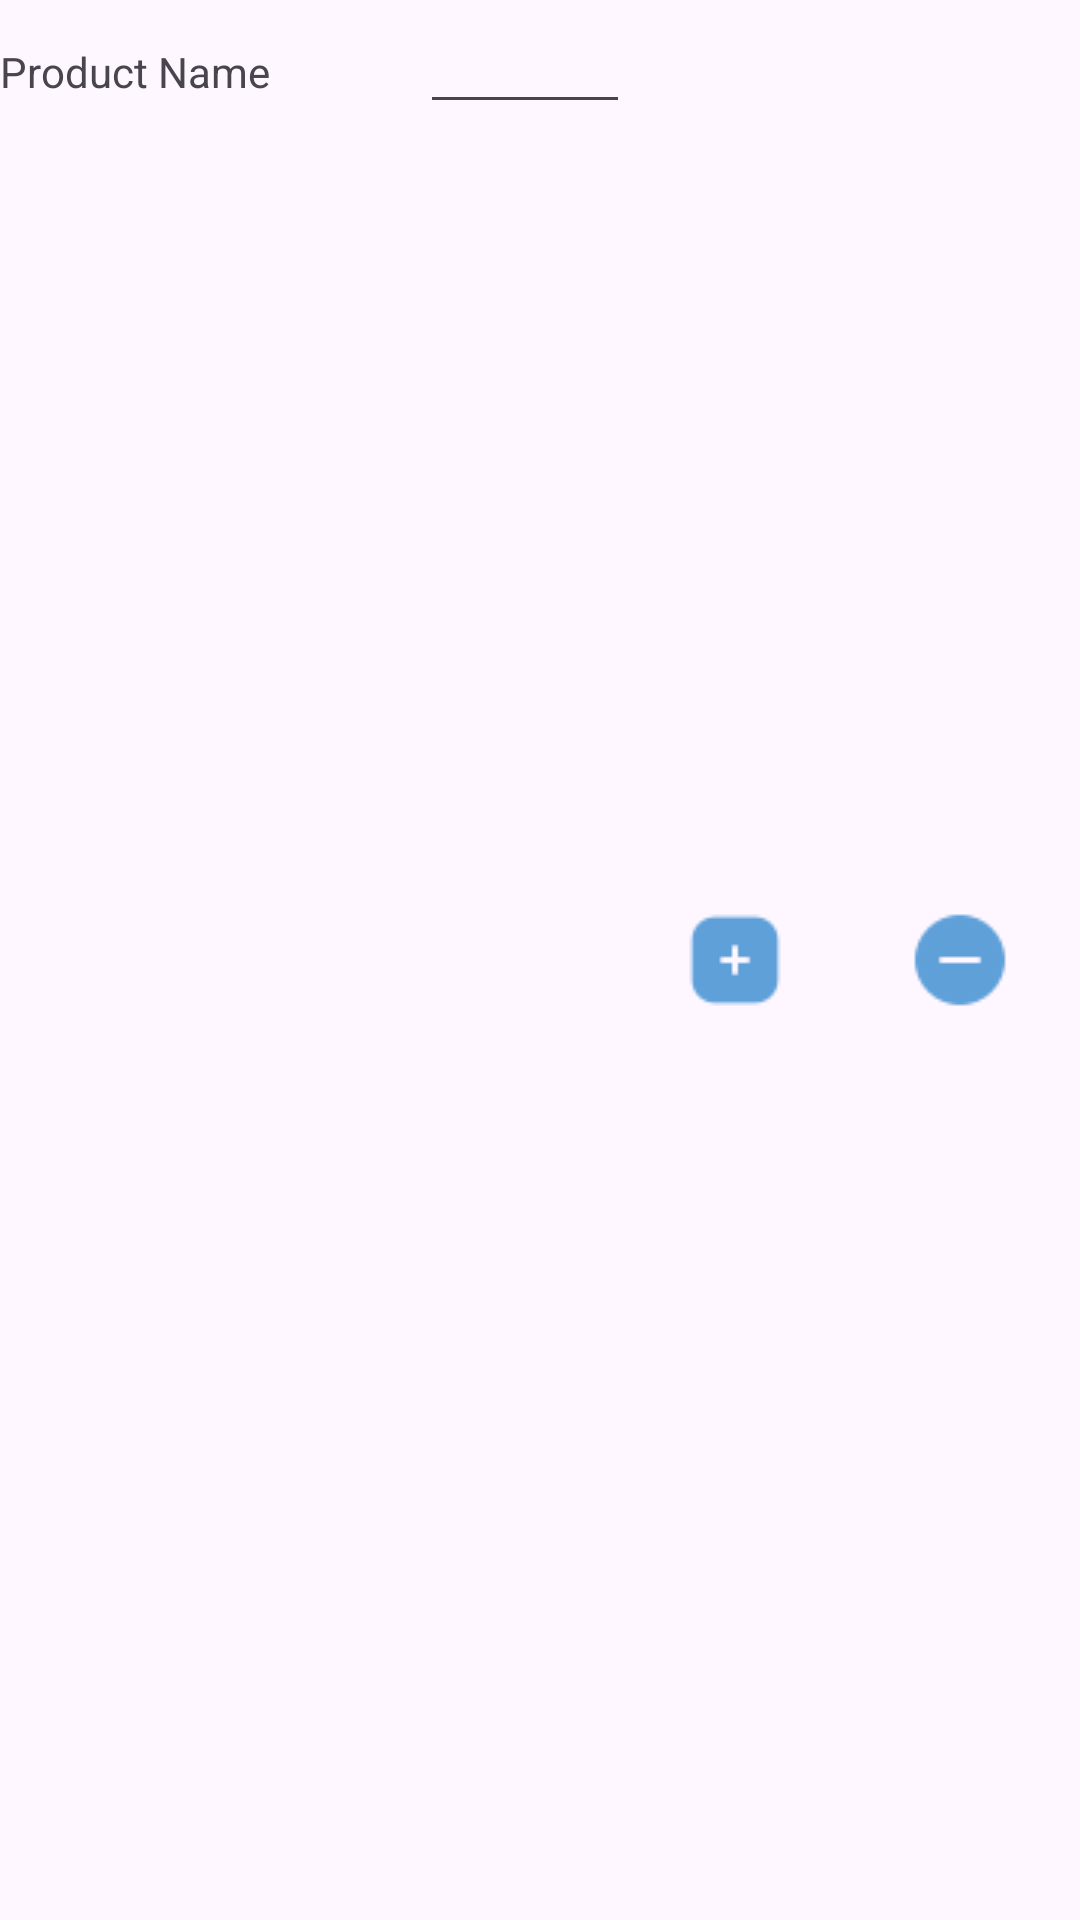

Where to tap for icons on this 1080x1920 app screen, as [x,y]:
addv: [735,960]
soustractionv: [960,960]
